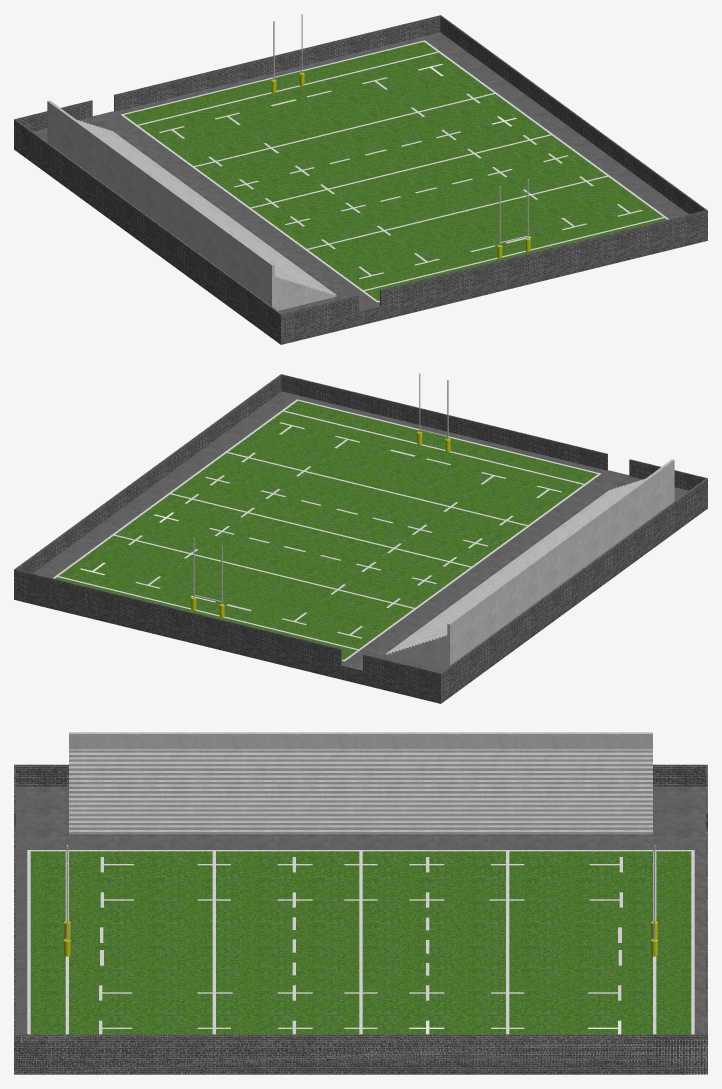
Rendered from RugbyField.fbx.
The picture shows the model from 3 angles, top to bottom: view 1: azimuth 30°, elevation 25°; view 2: azimuth 150°, elevation 25°; view 3: azimuth 270°, elevation 25°; orthographic projection. The views are drawn at different scales.
Parts seen in each view (by area): view 1: ID423, ID269, ID205, ID436, ID146, ID415, ID444, ID277, ID245, ID159; view 2: ID423, ID146, ID436, ID205, ID269, ID415, ID444, ID277, ID159, ID245; view 3: ID415, ID423, ID146, ID269, ID436, ID205, ID444, ID277, ID159, ID245.
Part boxes in pixels (box(x1,y1,x2,y2)): ID423: box(14, 15, 707, 344); ID269: box(139, 52, 493, 165); ID205: box(195, 94, 549, 207); ID436: box(252, 135, 606, 248); ID146: box(308, 176, 662, 290); ID415: box(47, 100, 336, 310); ID444: box(33, 32, 688, 313); ID277: box(120, 40, 668, 302); ID245: box(124, 42, 436, 124); ID159: box(365, 218, 666, 300); ID423: box(14, 374, 707, 703); ID146: box(228, 411, 582, 524); ID436: box(172, 453, 526, 566); ID205: box(115, 494, 469, 607); ID269: box(59, 535, 413, 649); ID415: box(385, 459, 674, 669); ID444: box(33, 391, 688, 672); ID277: box(53, 399, 601, 661); ID159: box(285, 401, 597, 483); ID245: box(55, 577, 356, 659); ID415: box(69, 732, 652, 834); ID423: box(14, 764, 707, 1074); ID146: box(69, 851, 212, 1034); ID269: box(509, 851, 652, 1034); ID436: box(216, 851, 359, 1034); ID205: box(362, 851, 505, 1034); ID444: box(16, 786, 705, 1034); ID277: box(27, 850, 694, 1034); ID159: box(30, 851, 65, 1034); ID245: box(656, 851, 691, 1034).
Size of the model in its own units: 315 by 59.88 by 341.
